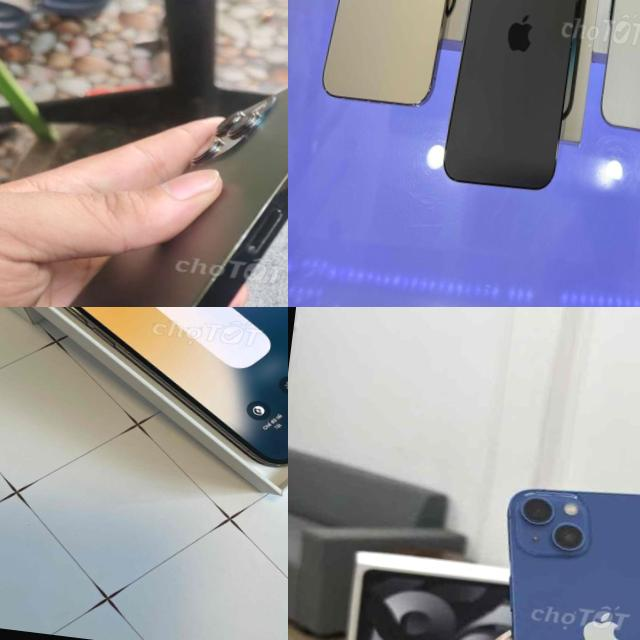gen_12_13: (0, 8, 288, 307), (468, 475, 640, 640)
gen_14: (0, 307, 288, 474), (434, 0, 595, 205), (318, 0, 468, 102)
